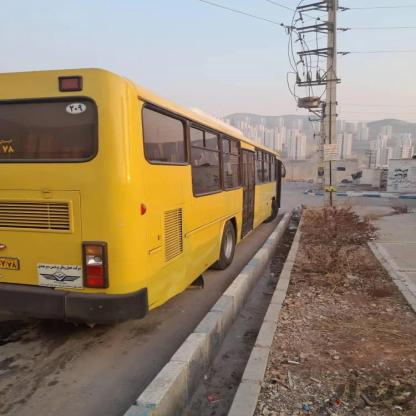Bus: (0, 64, 283, 316)
